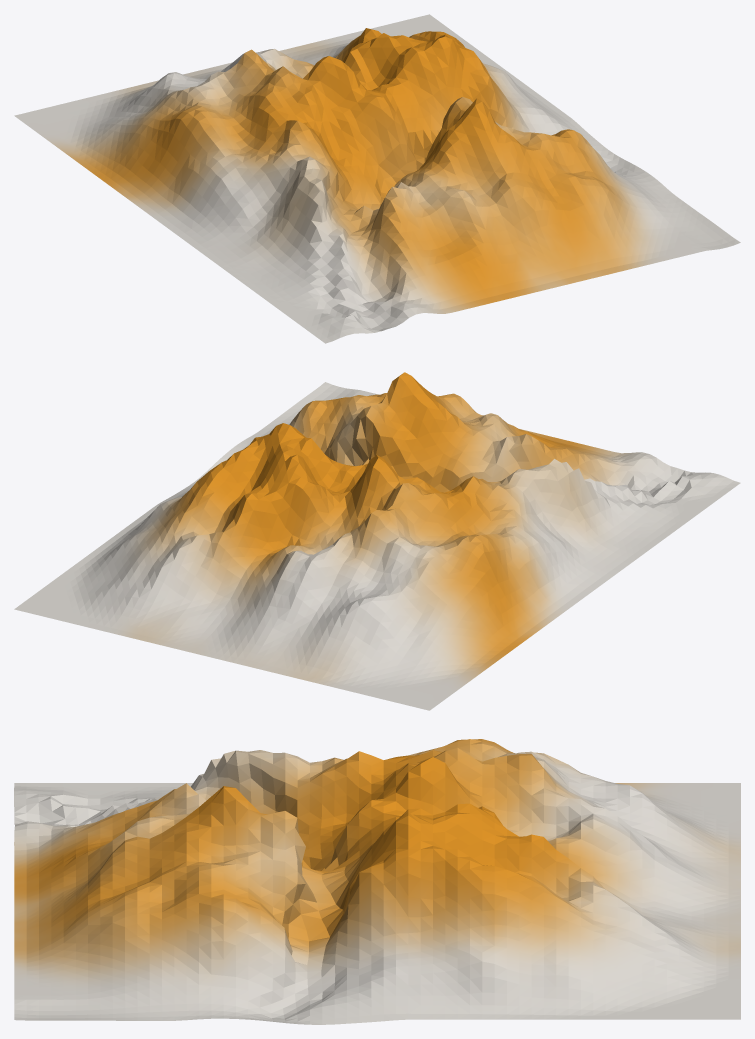
Rendered from trimountblendYELLOW.dae.
3 views of the same model, one above another, from view 1: azimuth 30°, elevation 25°; view 2: azimuth 150°, elevation 25°; view 3: azimuth 270°, elevation 25° (orthographic). The views are drawn at different scales.
Visible parts, largest first — view 1: node; view 2: node; view 3: node.
Part boxes in pixels (bbox=[...]): node: bbox=[14, 14, 740, 343]; node: bbox=[14, 372, 740, 710]; node: bbox=[14, 739, 740, 1024].
Bounding box in the file's own units: 6.47 × 1.88 × 8.39.
